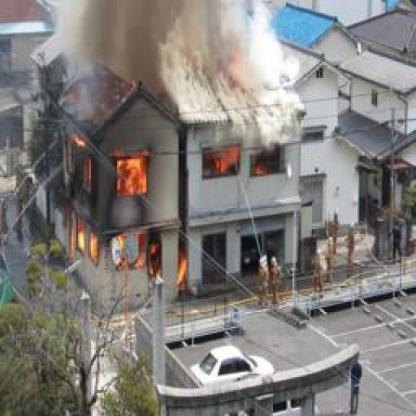fire: (114, 152, 152, 198), (207, 144, 238, 178), (73, 214, 86, 256), (174, 254, 190, 286), (88, 232, 100, 268), (249, 162, 270, 178)
